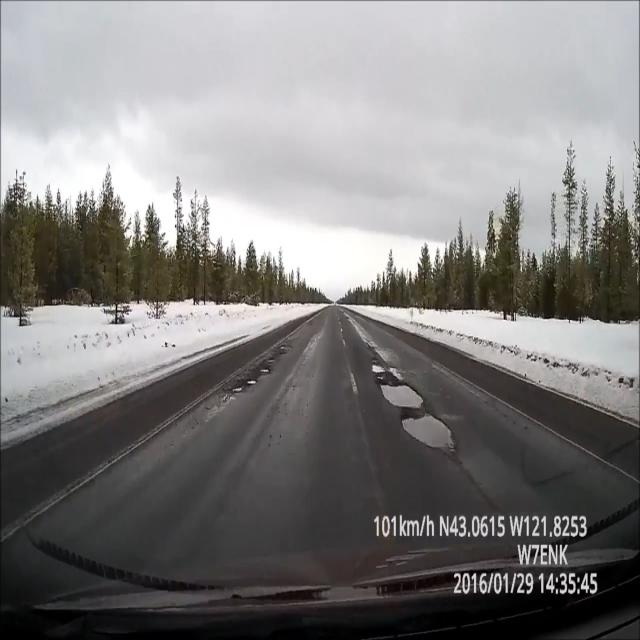Pothole: (364, 348, 464, 464), (222, 349, 274, 399)
